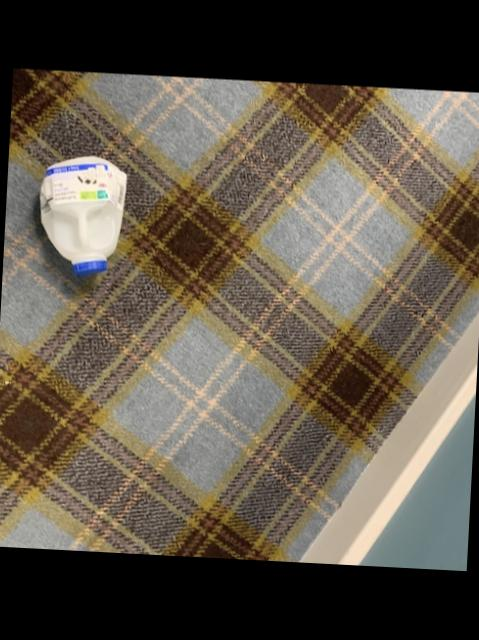plastic: (37, 156, 123, 272)
